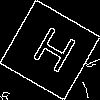H: (25, 25, 79, 83)
